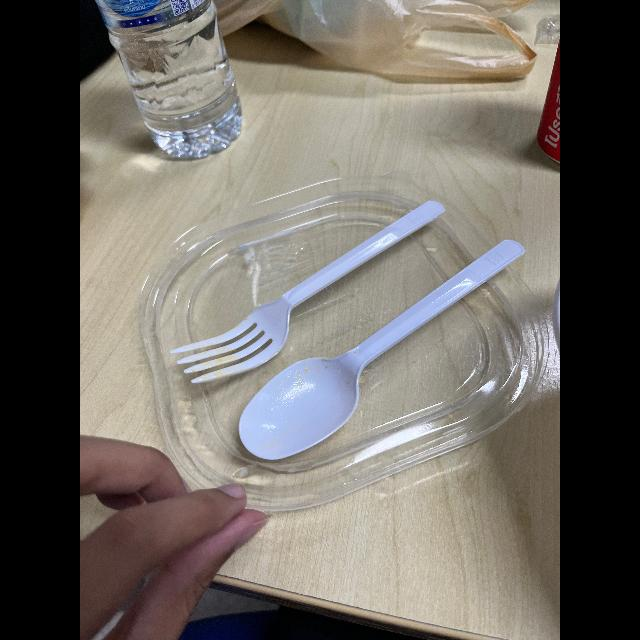plastic_cultery: (225, 226, 537, 458), (165, 186, 442, 386)
